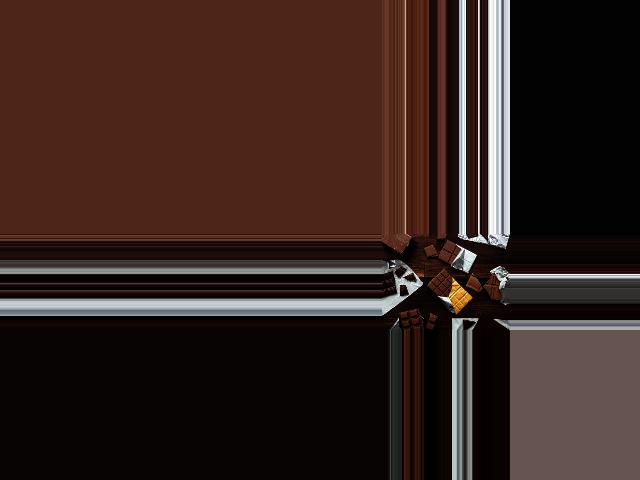chocolate: (438, 236, 474, 274)
